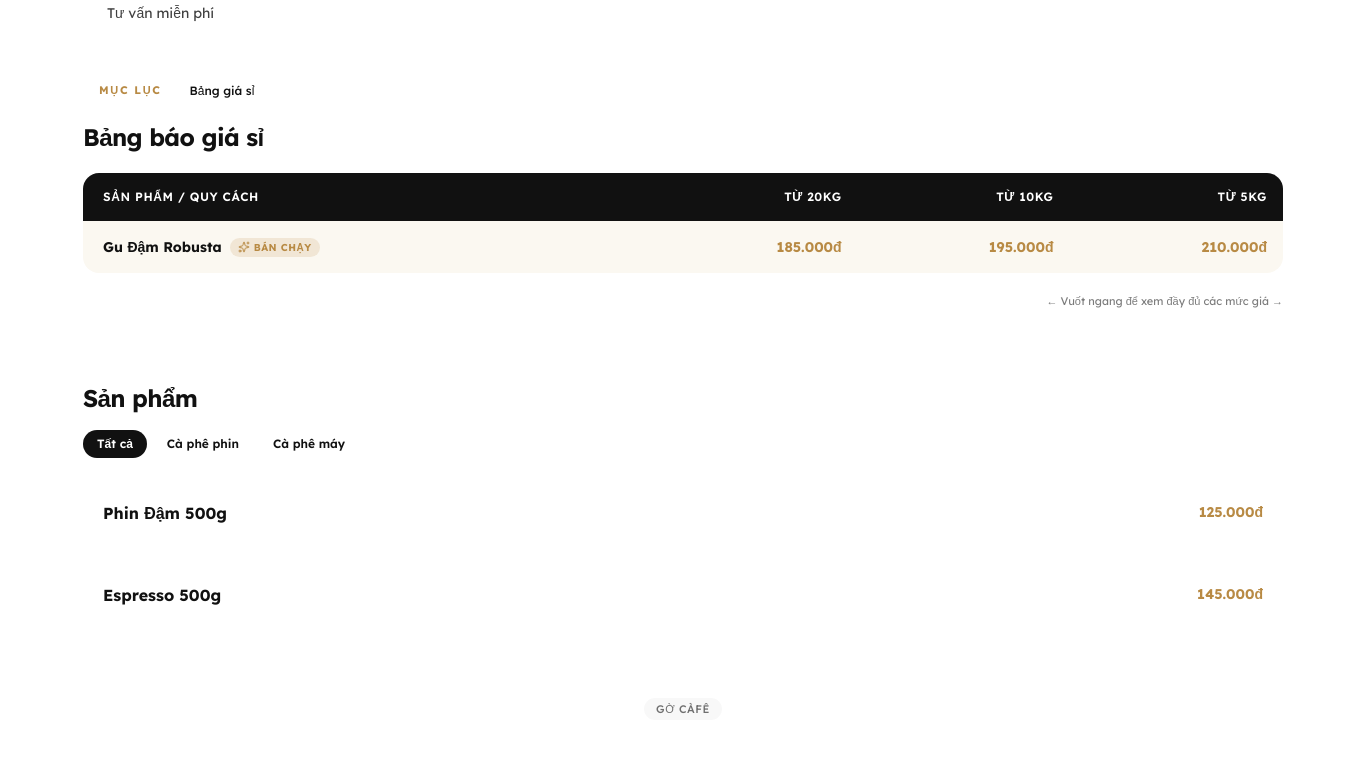
Test case: Landing Page Blocks & Templates (Phase 3) › render đầy đủ 7 section Landing Page với preset go-minimal-luxury và lọc danh mục sản phẩm
(page scrolled)
Expected: the text "Gu Đậm Robusta" is shown, [103, 237, 222, 257]
Expected: the text "185.000đ" is shown, [645, 221, 858, 273]
What coordinates should you click on to do the following:
click the button "Cà phê máy"
I would click on:
 (309, 444)
Its box is [259, 430, 359, 458].
(page scrolled)
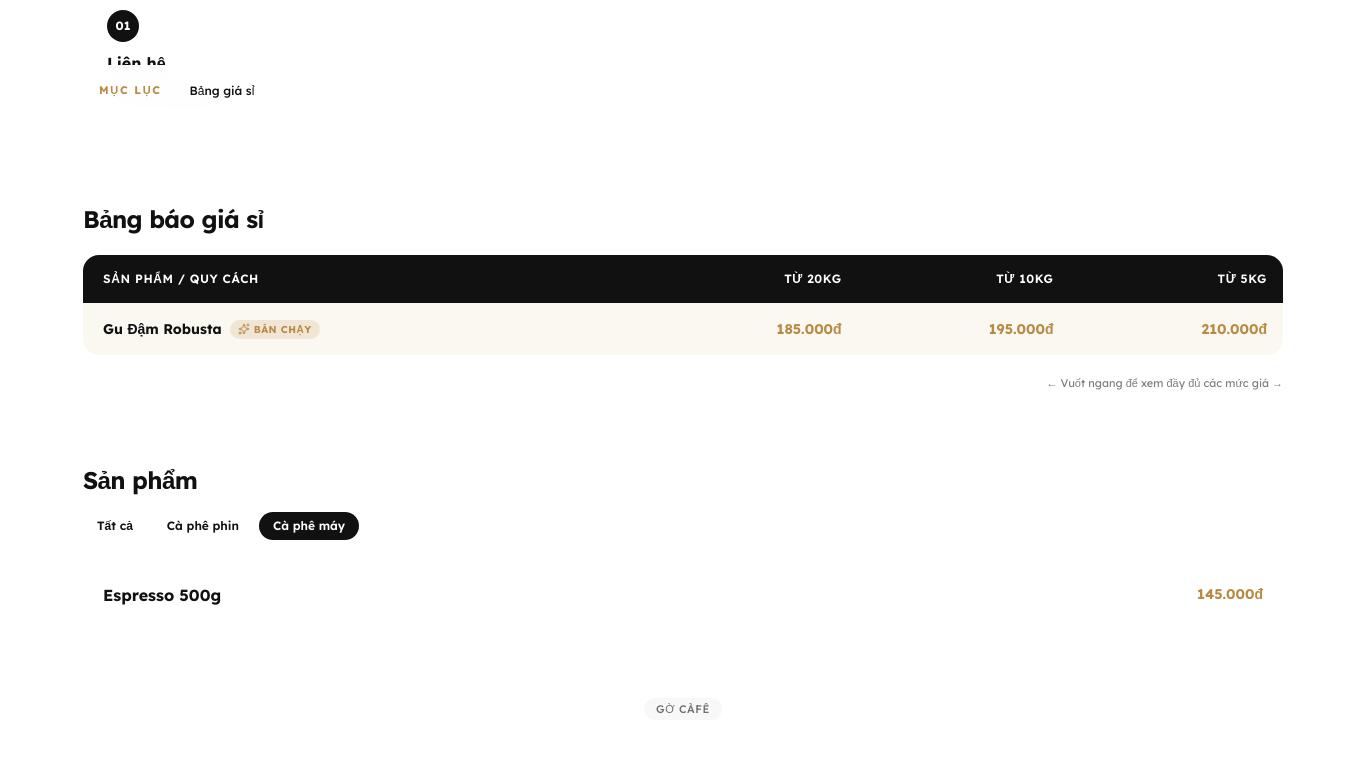
Expected: the heading "Espresso 500g" is shown, [103, 584, 221, 606]
Expected: the heading "Phin Đậm 500g" is gone
